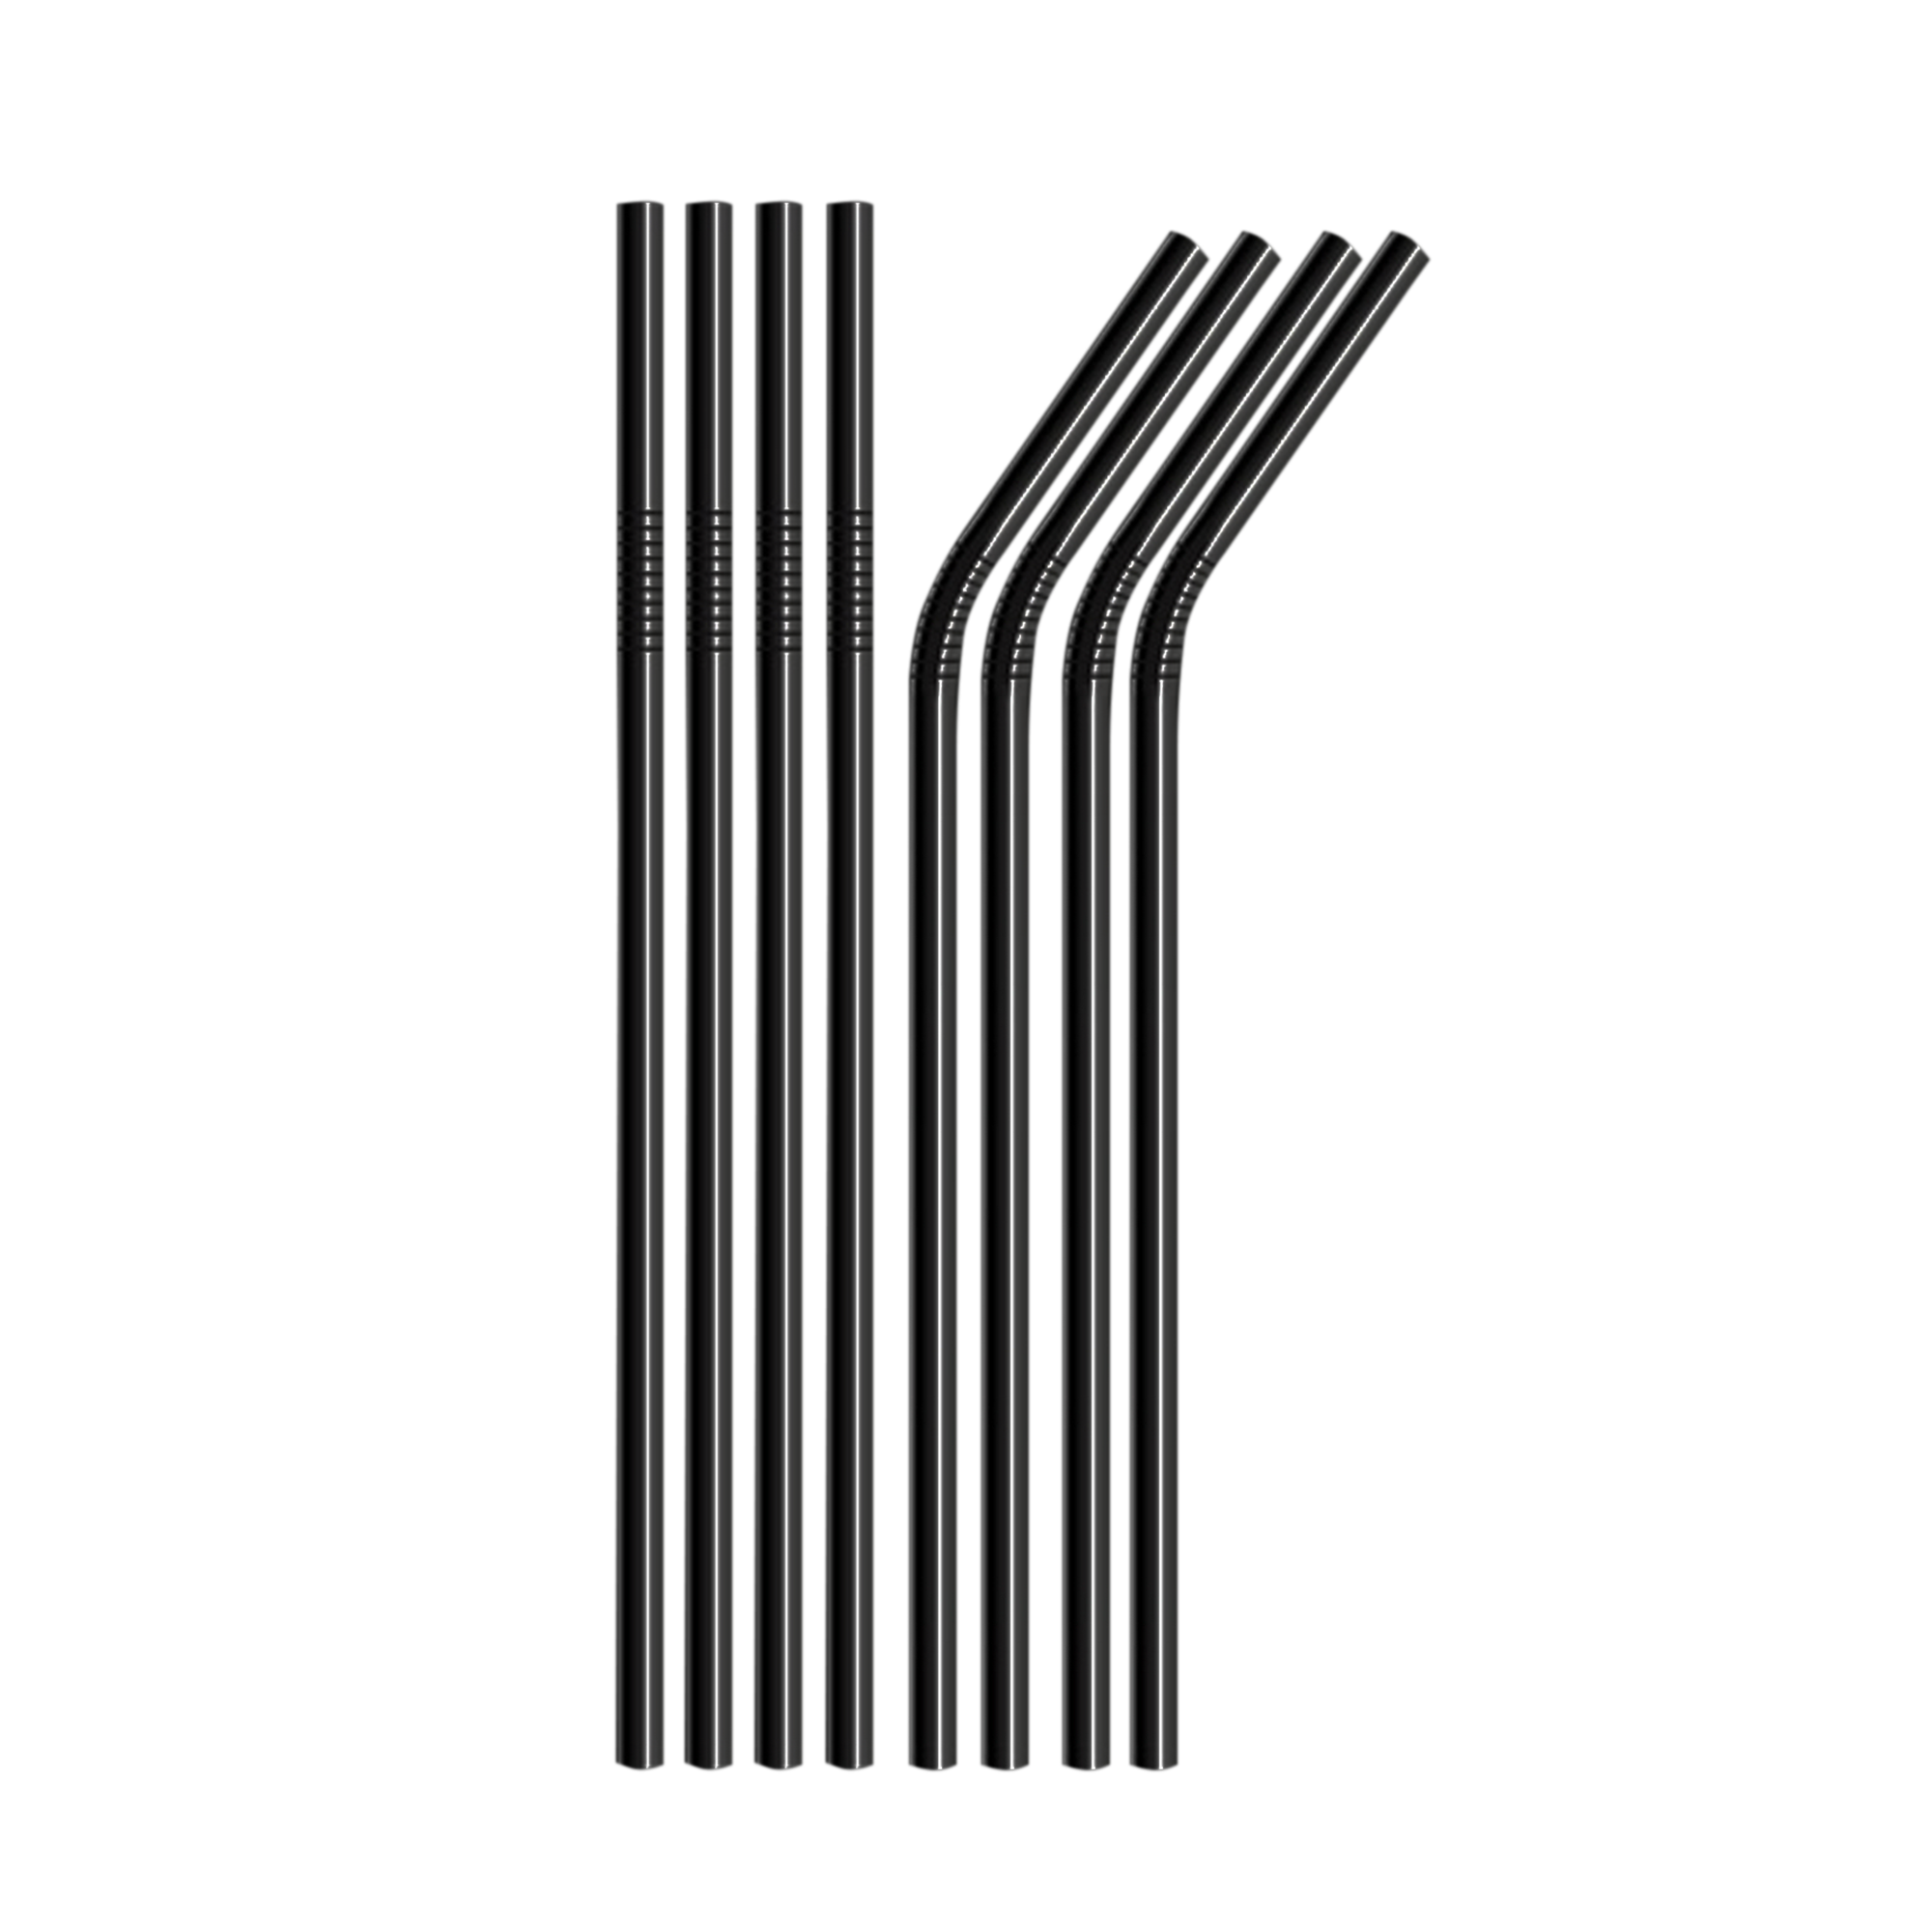Drinking Straw: (598, 182, 676, 1776), (817, 193, 893, 1773)
